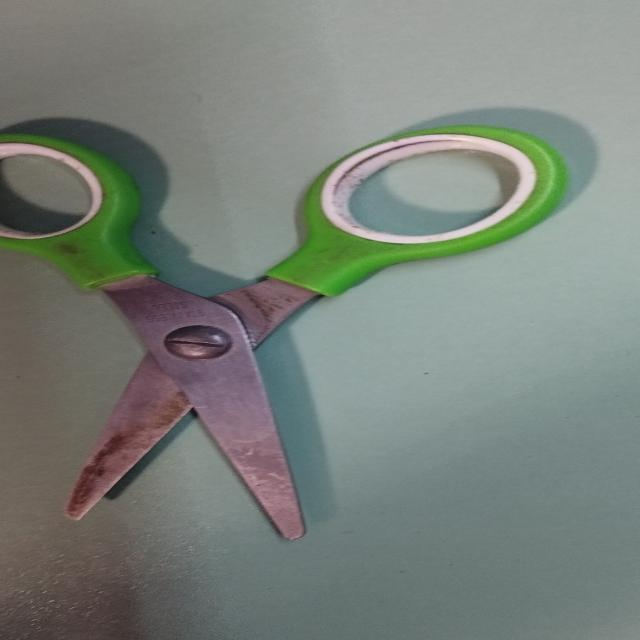scissors: (0, 104, 588, 550)
